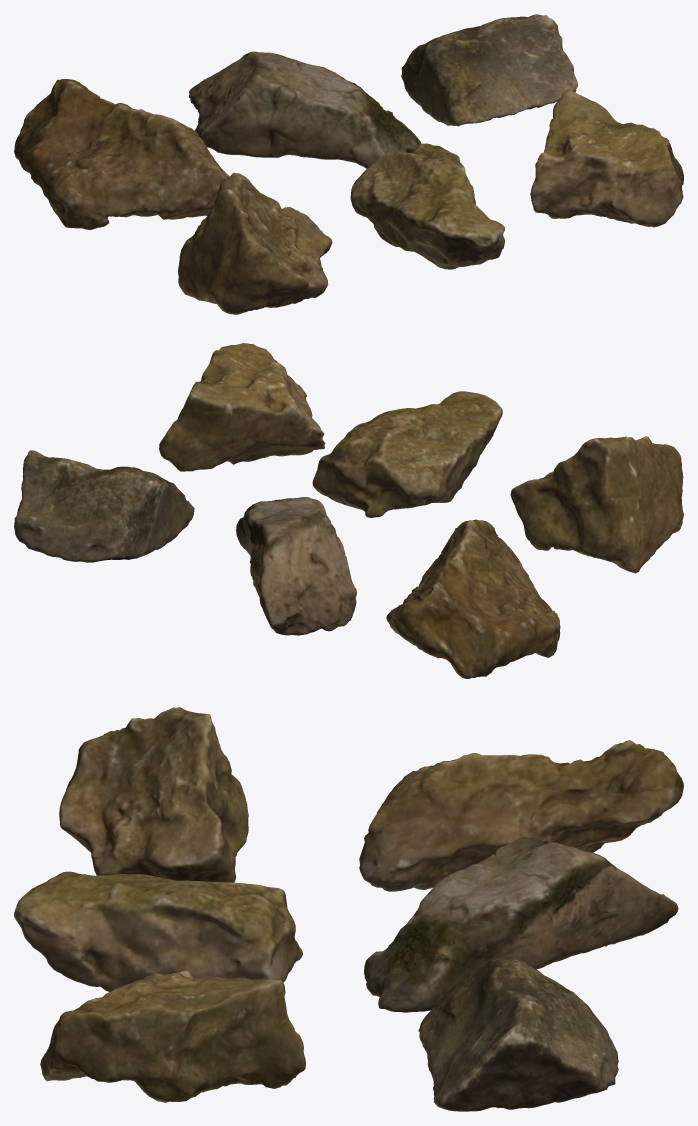
File: rock_moss_set_01.glb
The picture shows the model from 3 angles, top to bottom: view 1: azimuth 30°, elevation 25°; view 2: azimuth 150°, elevation 25°; view 3: azimuth 270°, elevation 25°; orthographic projection. The views are drawn at different scales.
Visible parts, largest first — view 1: rock_moss_set_01_rock01, rock_moss_set_01_rock02, rock_moss_set_01_rock06, rock_moss_set_01_rock04, rock_moss_set_01_rock03, rock_moss_set_01_rock05; view 2: rock_moss_set_01_rock04, rock_moss_set_01_rock01, rock_moss_set_01_rock05, rock_moss_set_01_rock03, rock_moss_set_01_rock06, rock_moss_set_01_rock02; view 3: rock_moss_set_01_rock01, rock_moss_set_01_rock02, rock_moss_set_01_rock05, rock_moss_set_01_rock04, rock_moss_set_01_rock06, rock_moss_set_01_rock03.
Boxes of the visible parts, left/top/right/bottom form: rock_moss_set_01_rock01: left=14, top=79, right=229, bottom=229; rock_moss_set_01_rock02: left=189, top=51, right=421, bottom=168; rock_moss_set_01_rock06: left=530, top=89, right=683, bottom=227; rock_moss_set_01_rock04: left=178, top=173, right=332, bottom=314; rock_moss_set_01_rock03: left=401, top=14, right=577, bottom=126; rock_moss_set_01_rock05: left=350, top=143, right=504, bottom=269; rock_moss_set_01_rock04: left=510, top=436, right=683, bottom=573; rock_moss_set_01_rock01: left=386, top=519, right=560, bottom=678; rock_moss_set_01_rock05: left=312, top=391, right=502, bottom=517; rock_moss_set_01_rock03: left=14, top=450, right=194, bottom=562; rock_moss_set_01_rock06: left=159, top=343, right=325, bottom=471; rock_moss_set_01_rock02: left=236, top=497, right=356, bottom=635; rock_moss_set_01_rock01: left=359, top=740, right=683, bottom=891; rock_moss_set_01_rock02: left=364, top=836, right=678, bottom=1012; rock_moss_set_01_rock05: left=14, top=871, right=302, bottom=991; rock_moss_set_01_rock04: left=59, top=707, right=248, bottom=882; rock_moss_set_01_rock06: left=40, top=970, right=305, bottom=1102; rock_moss_set_01_rock03: left=418, top=956, right=618, bottom=1111.
Size of the model in its own units: 8 by 1.77 by 6.95.
1 material, 1 textured.
